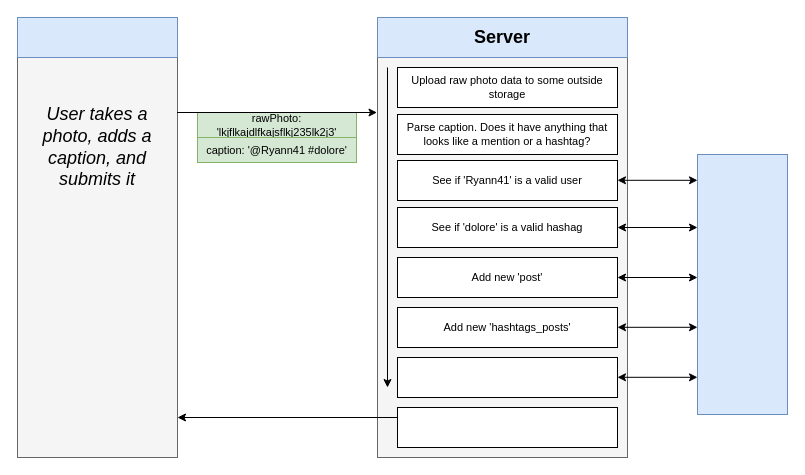
Image size: 805x475. Some labels were removed from this diagram. Here are the shapes that lost their labels. From the top down, the centre of each, then its label:
At (97,37): "App".
At (742,284): "DB".
At (507,377): "Add new 'caption_tag'".
At (507,427): "Tell user the post was created".
